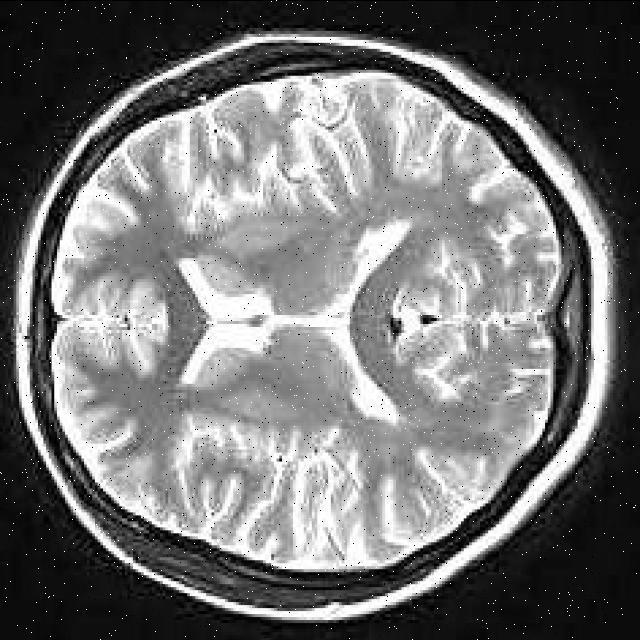No_Tumor: (16, 31, 616, 621)
